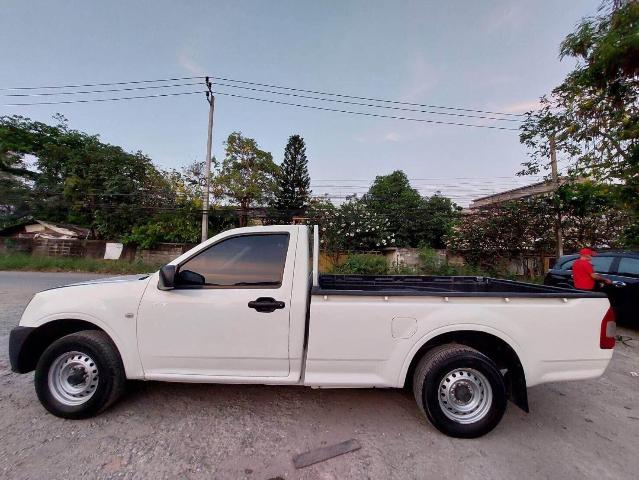pickup-truck: (3, 183, 622, 445)
